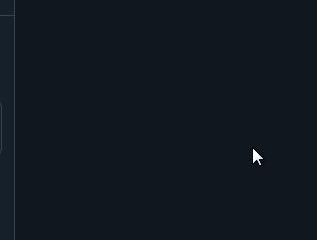cursor: (252, 147, 264, 166)
